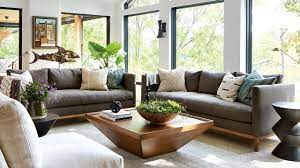Chair: (0, 90, 120, 168)
Lamp: (153, 18, 172, 41)
Sofa: (138, 60, 295, 136), (0, 63, 141, 116)
Table: (80, 100, 211, 156), (274, 98, 300, 159)
